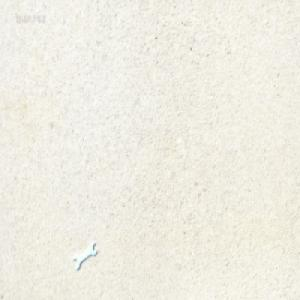Wrench: (74, 241, 98, 270)
